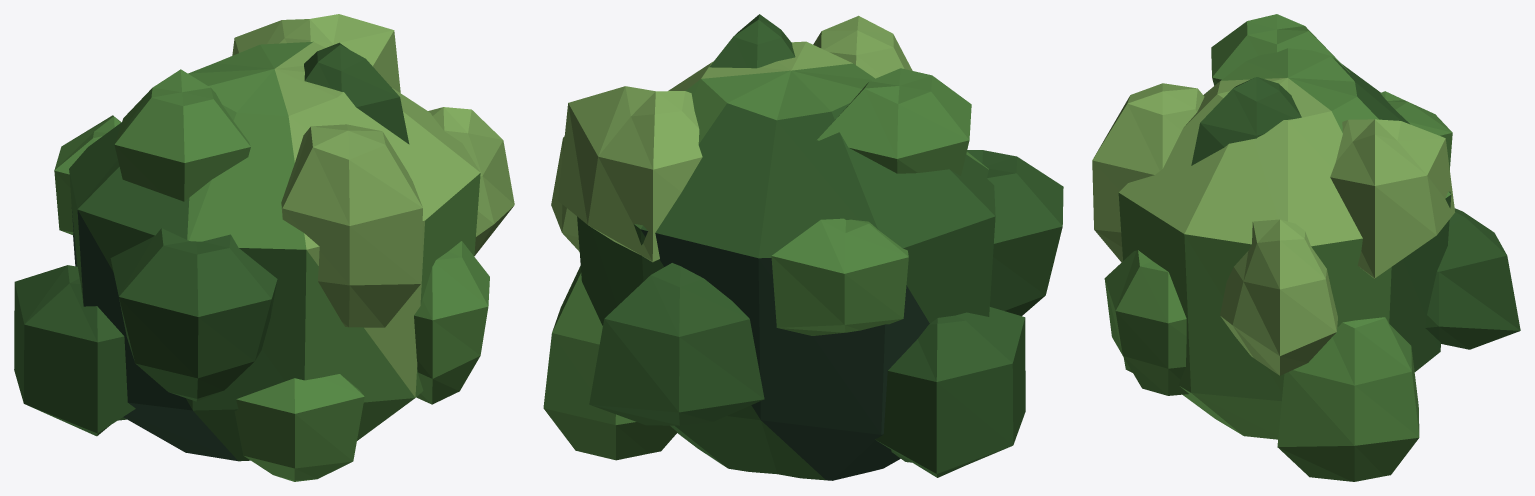
Rendered from round-bush-cd2ac0.glb.
3 renders of one model, left to right at view 1: azimuth 30°, elevation 25°; view 2: azimuth 150°, elevation 25°; view 3: azimuth 270°, elevation 25°, orthographic. The views are drawn at different scales.
Visible parts, largest first — view 1: round-bush-mesh; view 2: round-bush-mesh; view 3: round-bush-mesh.
Part boxes in pixels (bbox=[...]): round-bush-mesh: bbox=[14, 14, 514, 481]; round-bush-mesh: bbox=[543, 14, 1063, 480]; round-bush-mesh: bbox=[1092, 14, 1520, 481].
Bounding box in the file's own units: 0.9403 × 0.7423 × 0.8175.
